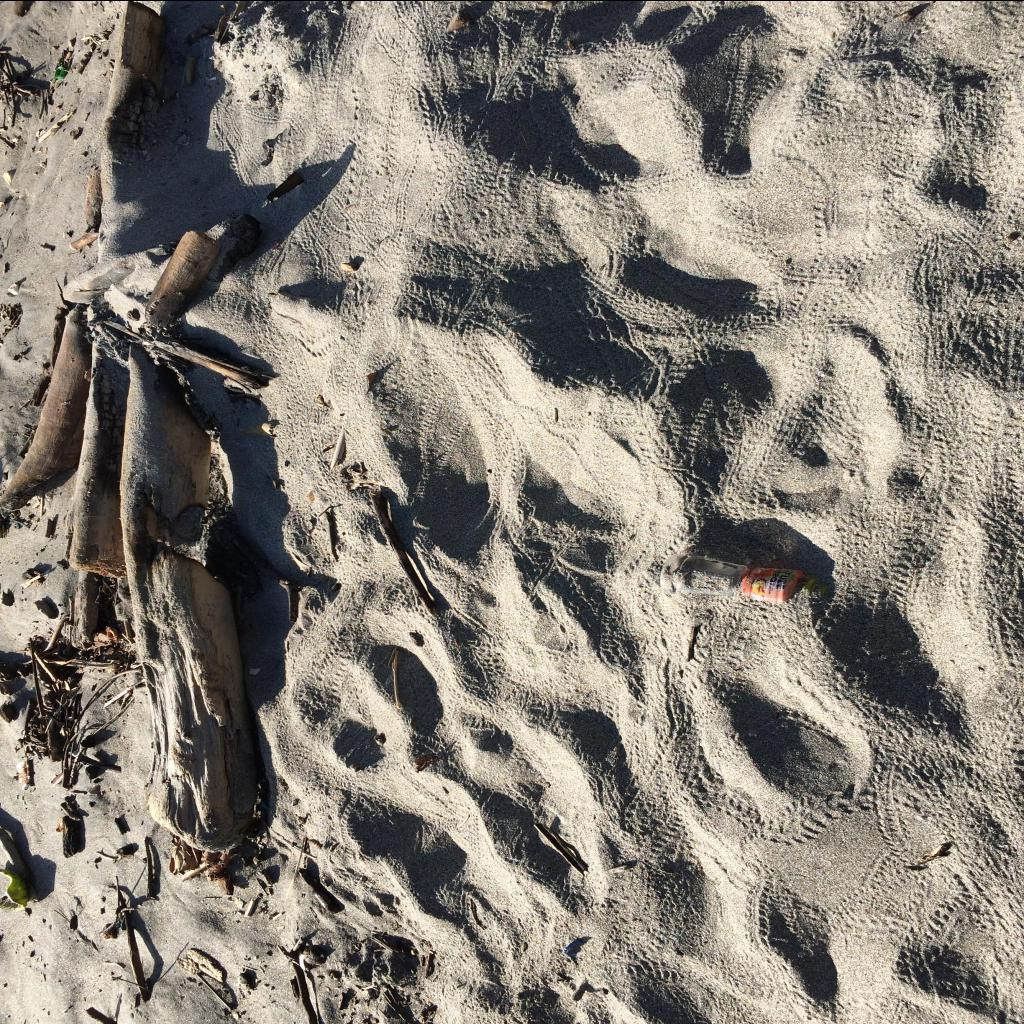Clear plastic bottle: (660, 552, 828, 602)
